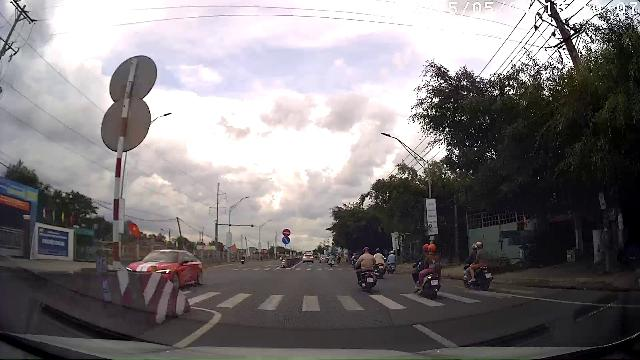102-cam-di-nguoc-chieu: (282, 228, 291, 237)
302a-huong-phai-di-vong-chuong-ngai-vat-1: (282, 236, 290, 244)
